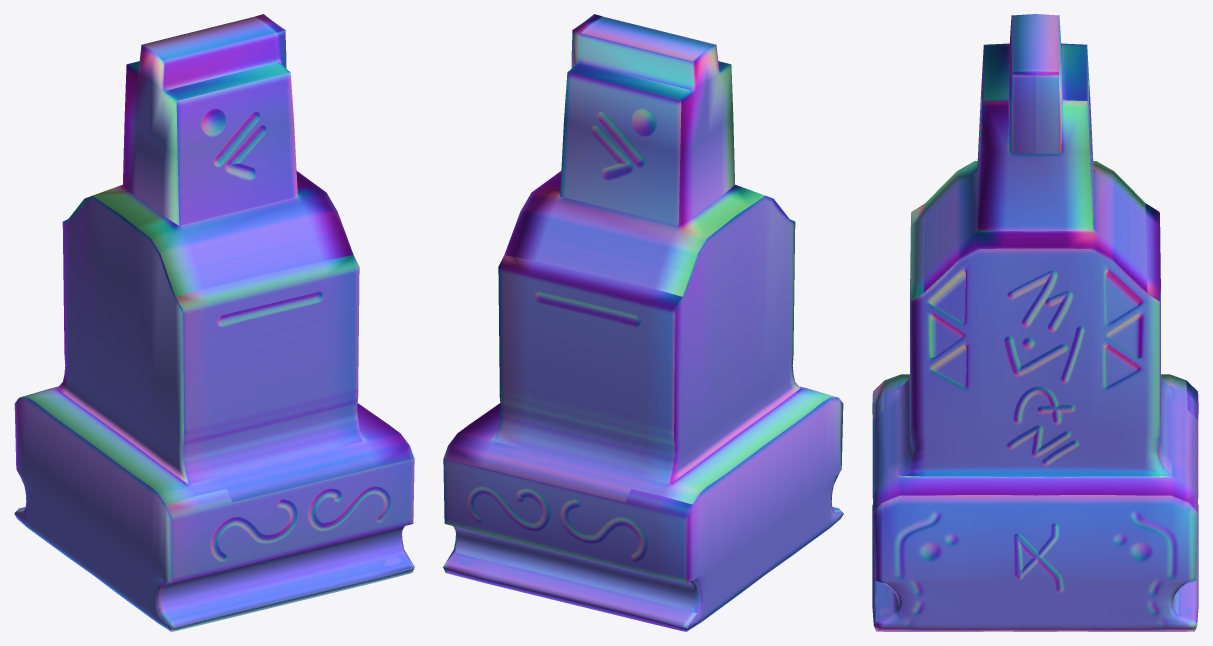
The model's file is RAI-KeyPointTower.fbx.
The picture shows the model from 3 angles, left to right: view 1: azimuth 30°, elevation 25°; view 2: azimuth 150°, elevation 25°; view 3: azimuth 270°, elevation 25°; orthographic projection. The views are drawn at different scales.
Visible parts, largest first — view 1: RetopoGroup1; view 2: RetopoGroup1; view 3: RetopoGroup1.
Boxes of the visible parts, box(x1,y1,x2,y2) form: RetopoGroup1: box(14, 14, 414, 631); RetopoGroup1: box(443, 14, 843, 631); RetopoGroup1: box(872, 14, 1198, 631).
Bounding box in the file's own units: 40.79 × 79.97 × 44.94.
